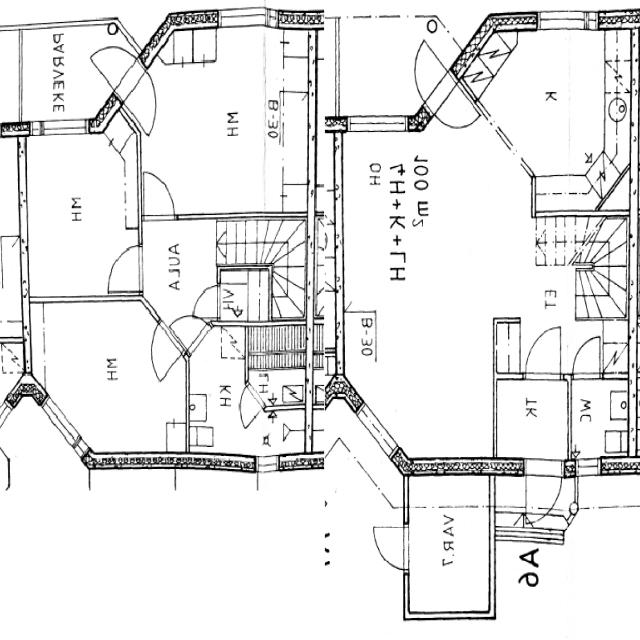door: (90, 28, 146, 104), (114, 59, 169, 134), (425, 71, 479, 145), (402, 40, 456, 114), (138, 320, 184, 384), (169, 297, 211, 355), (526, 458, 562, 524), (526, 324, 560, 379), (373, 526, 410, 569), (106, 247, 141, 291), (144, 168, 176, 216), (234, 384, 265, 428), (574, 335, 600, 379), (195, 286, 221, 317)
